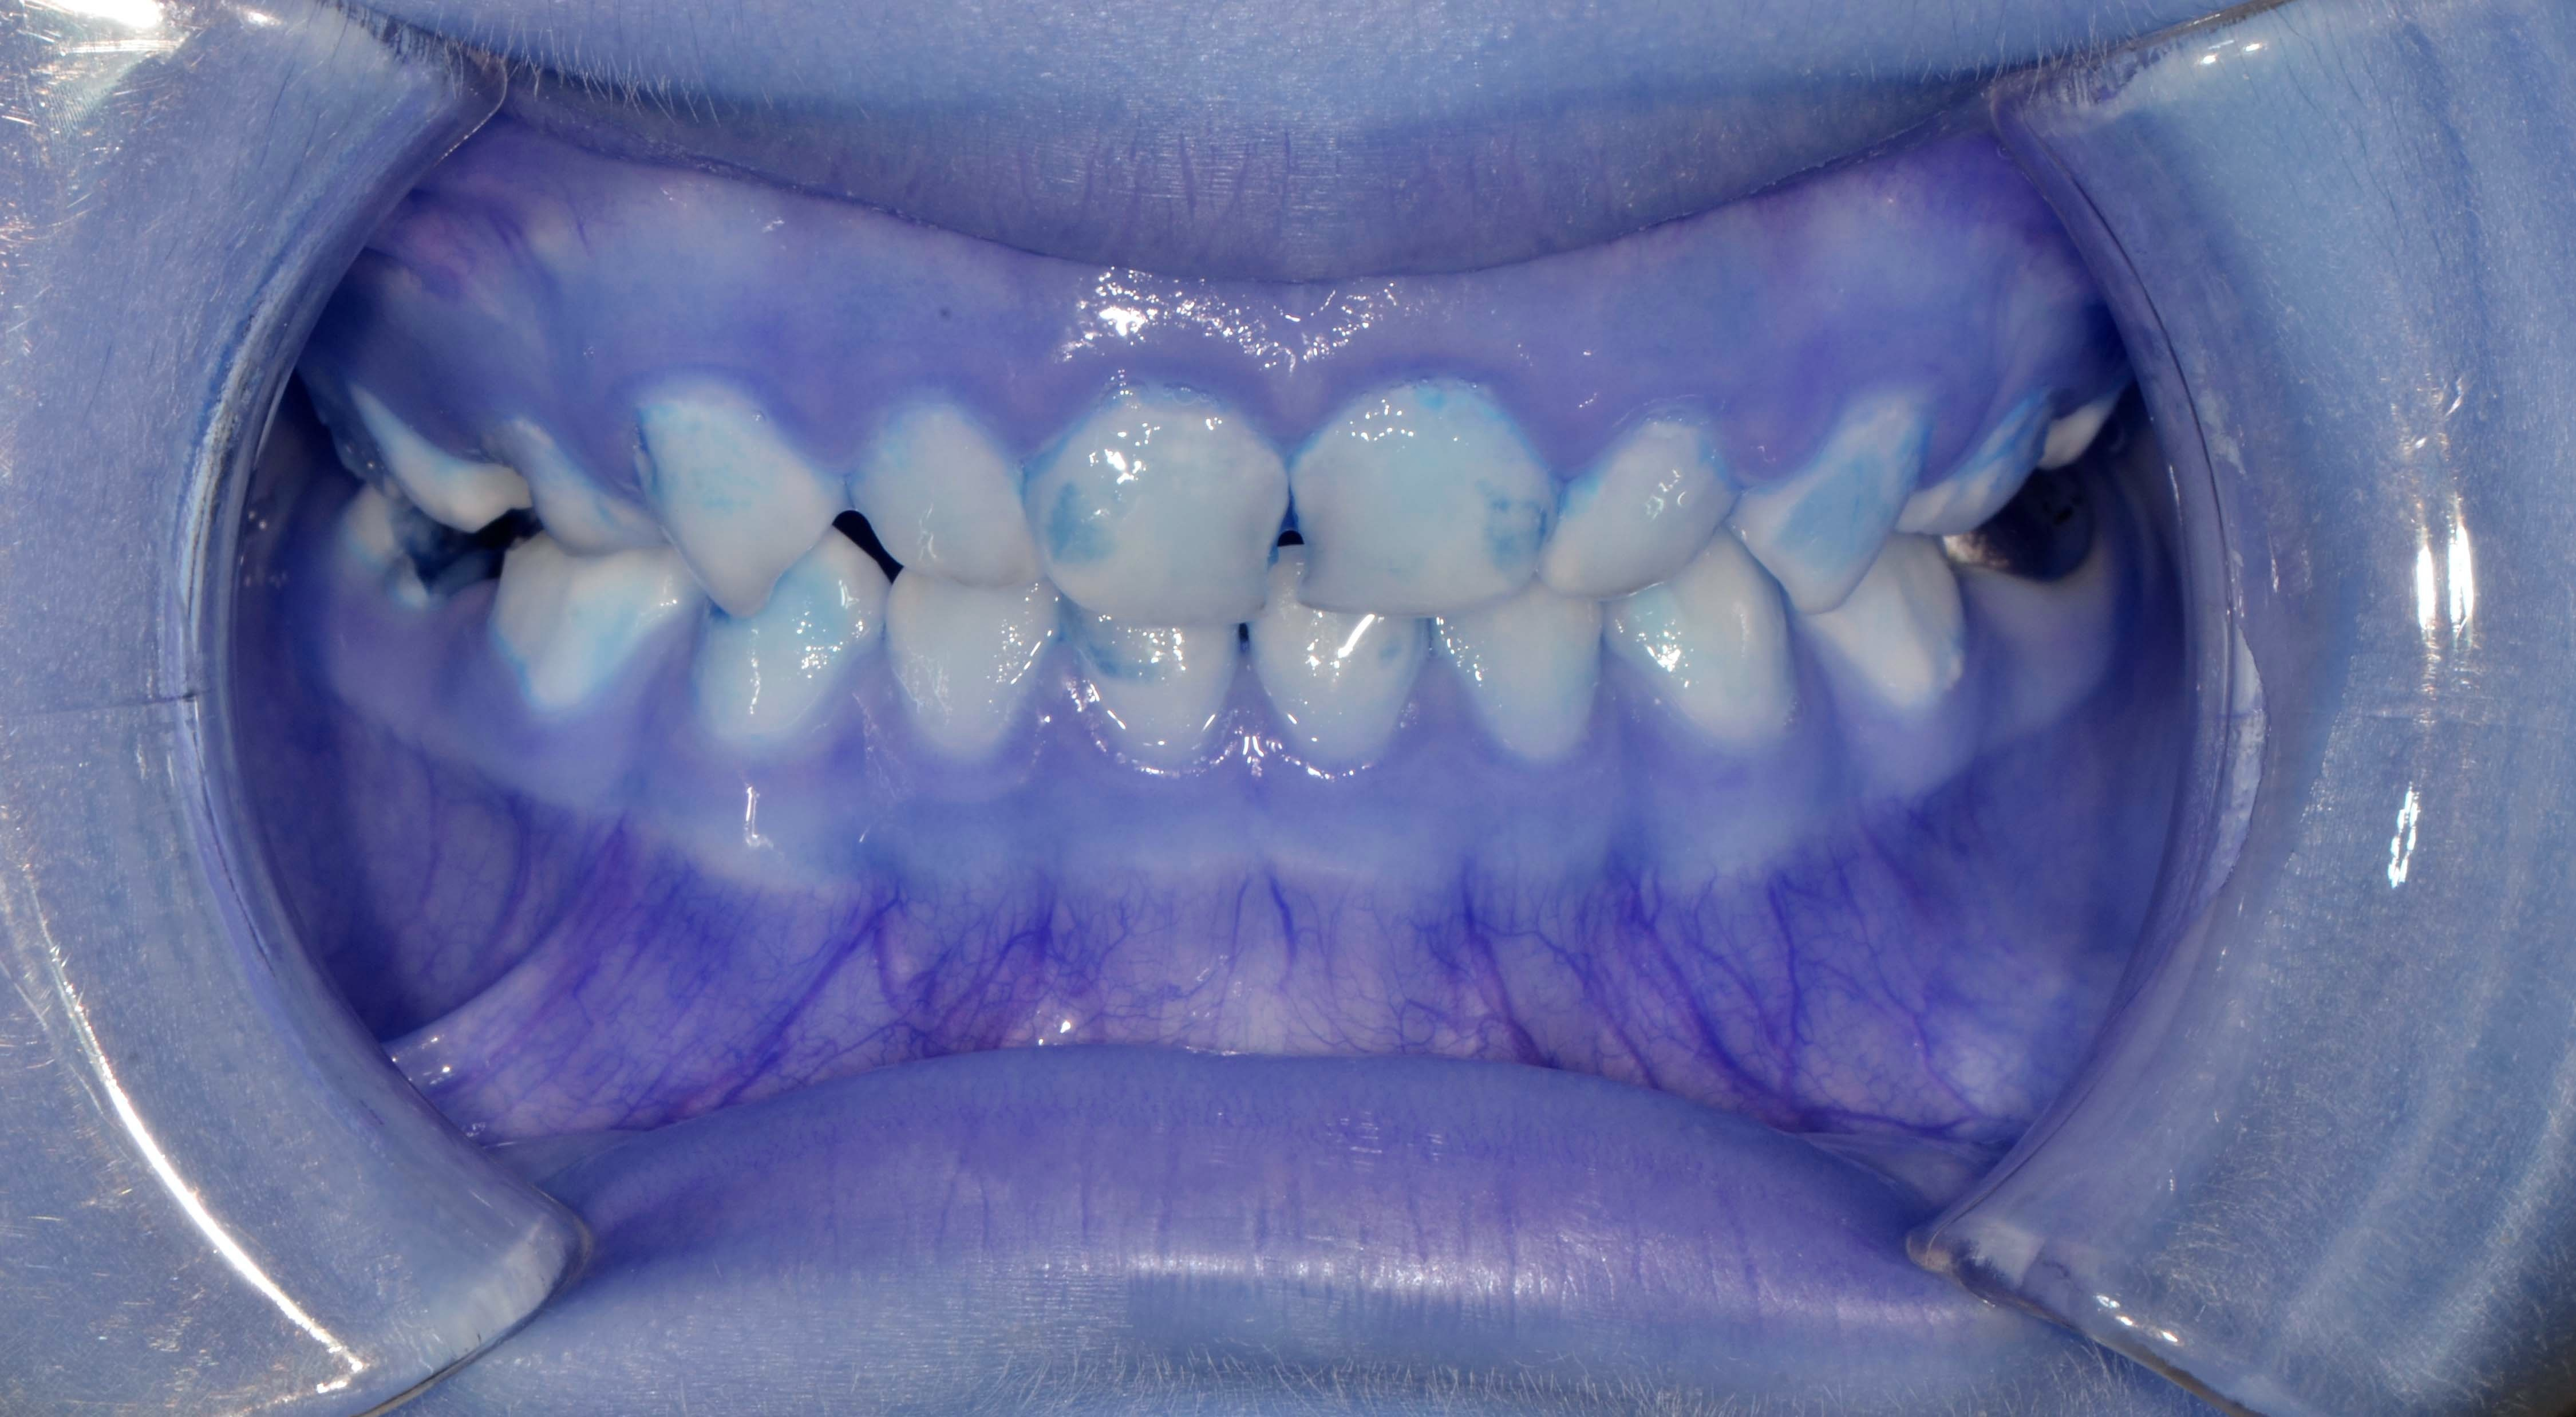karies: (1973, 307, 2166, 494), (352, 462, 572, 618)
